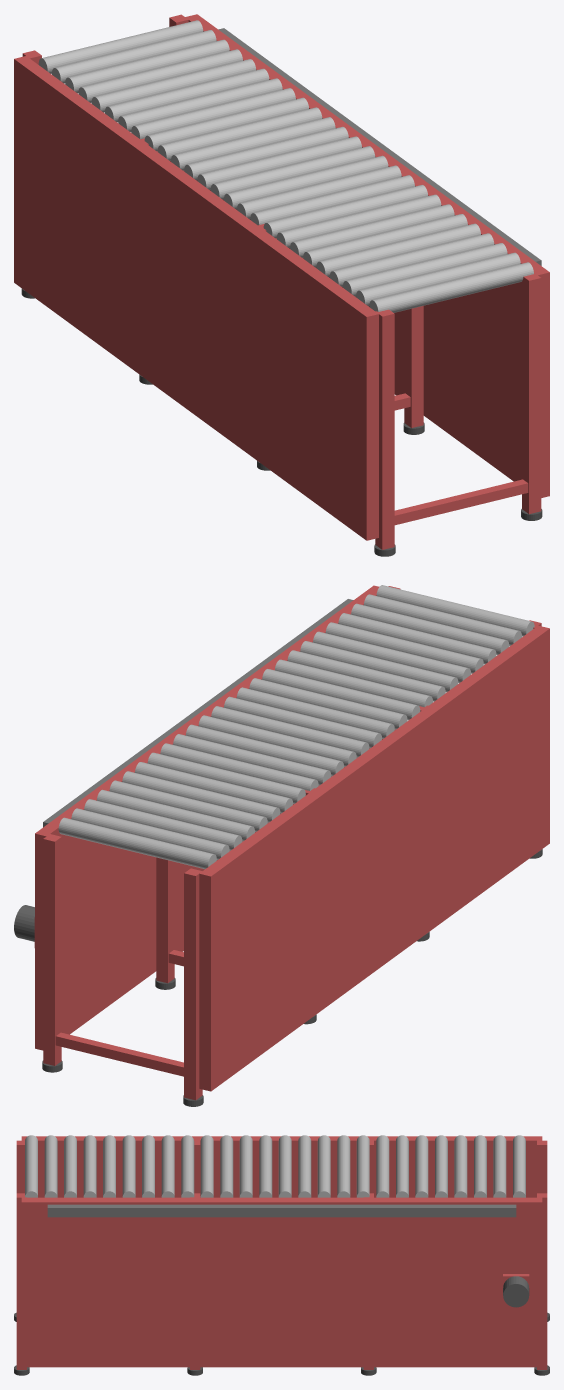
Rendered from conveyor-roller-straight-600-red.glb.
3 views of the same model, one above another, from view 1: azimuth 30°, elevation 25°; view 2: azimuth 150°, elevation 25°; view 3: azimuth 270°, elevation 25° (orthographic). The views are drawn at different scales.
Visible parts, largest first — view 1: side_frame_left, side_frame_right, leg_right_0, leg_left_0, roller_0, leg_right_1, roller_1, roller_23, roller_2, roller_22, roller_5, roller_24 (+21 smaller); view 2: side_frame_left, side_frame_right, leg_right_3, leg_left_3, roller_25, leg_right_2, roller_13, roller_3, roller_10, roller_2, roller_14, roller_15 (+22 smaller); view 3: side_frame_right, side_frame_left, chain_cover, leg_right_3, leg_right_0, roller_3, roller_5, roller_7, roller_9, roller_11, roller_13, roller_14 (+23 smaller).
Boxes of the visible parts, bbox=[...] form: side_frame_left: bbox=[14, 56, 378, 540]; side_frame_right: bbox=[185, 14, 549, 497]; leg_right_0: bbox=[522, 273, 541, 514]; leg_left_0: bbox=[375, 309, 394, 549]; roller_0: bbox=[369, 262, 533, 312]; leg_right_1: bbox=[404, 306, 423, 427]; roller_1: bbox=[356, 252, 520, 306]; roller_23: bbox=[65, 39, 229, 93]; roller_2: bbox=[343, 243, 507, 296]; roller_22: bbox=[78, 49, 242, 102]; roller_5: bbox=[303, 214, 467, 267]; roller_24: bbox=[52, 30, 216, 83]; side_frame_left: bbox=[199, 625, 549, 1091]; side_frame_right: bbox=[35, 585, 382, 1050]; leg_right_3: bbox=[43, 834, 61, 1065]; leg_left_3: bbox=[184, 868, 202, 1100]; roller_25: bbox=[58, 817, 216, 869]; leg_right_2: bbox=[156, 753, 174, 983]; roller_13: bbox=[211, 706, 369, 757]; roller_3: bbox=[338, 613, 496, 664]; roller_10: bbox=[249, 678, 407, 729]; roller_2: bbox=[351, 603, 509, 655]; roller_14: bbox=[198, 715, 356, 766]; roller_15: bbox=[186, 724, 343, 776]; side_frame_right: bbox=[21, 1197, 542, 1367]; side_frame_left: bbox=[21, 1136, 542, 1197]; chain_cover: bbox=[47, 1204, 516, 1217]; leg_right_3: bbox=[537, 1193, 547, 1369]; leg_right_0: bbox=[16, 1193, 26, 1369]; roller_3: bbox=[83, 1135, 96, 1197]; roller_5: bbox=[122, 1135, 135, 1197]; roller_7: bbox=[161, 1135, 174, 1197]; roller_9: bbox=[200, 1135, 213, 1197]; roller_11: bbox=[239, 1135, 252, 1197]; roller_13: bbox=[278, 1135, 291, 1197]; roller_14: bbox=[298, 1135, 311, 1197].
Bounding box in the file's own units: 700 × 775 × 2060.
